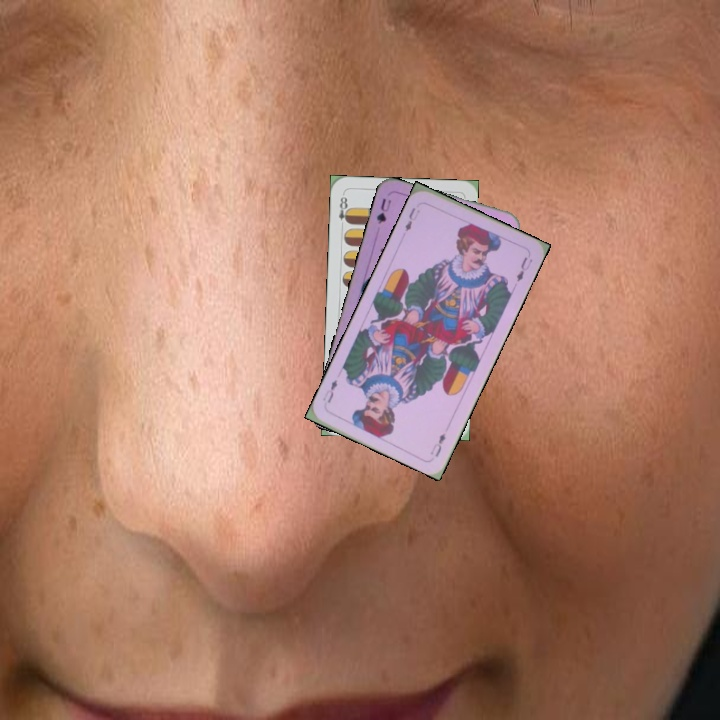E8: (335, 190, 352, 226)
EU: (426, 429, 448, 459), (401, 203, 422, 234)
GU: (372, 195, 393, 227)
